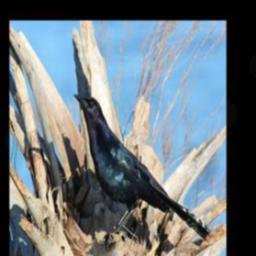Crow: (72, 92, 209, 251)
